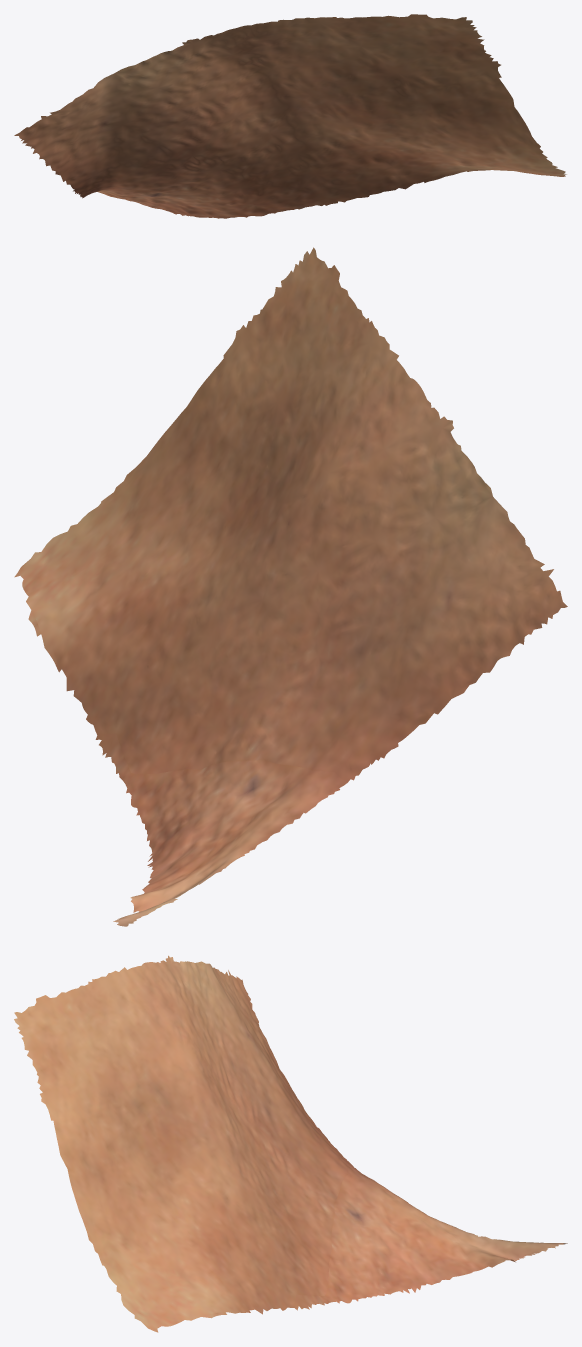
File: Plan_01_Textures.clean.reg.obj
3 views of the same model, one above another, from view 1: azimuth 30°, elevation 25°; view 2: azimuth 150°, elevation 25°; view 3: azimuth 270°, elevation 25° (orthographic). The views are drawn at different scales.
Size of the model in its own units: 92.13 by 59.06 by 93.8.
1 material, 1 textured.
